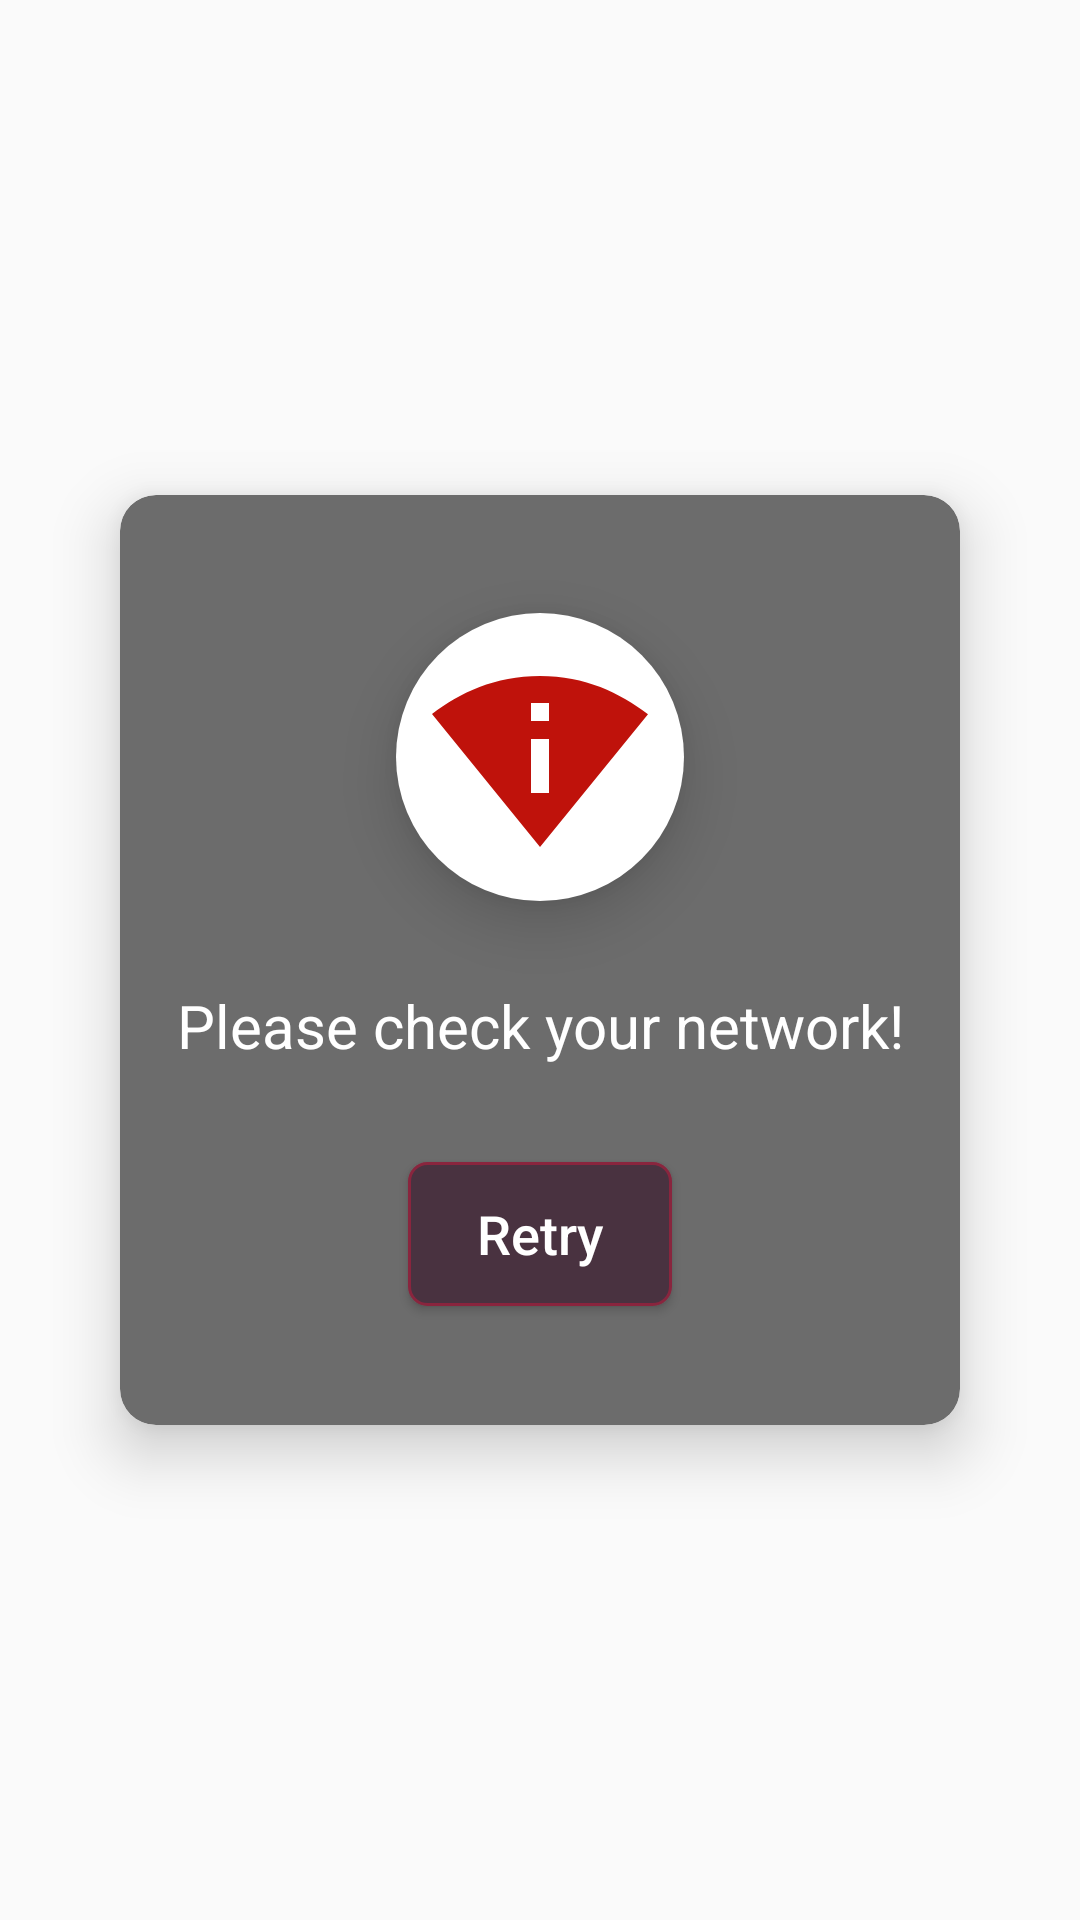

Icons on this 1080x1920 Android screen, each with its box as (x1, y1, x2, y2):
perm scan wifi: (396, 613, 684, 901)
